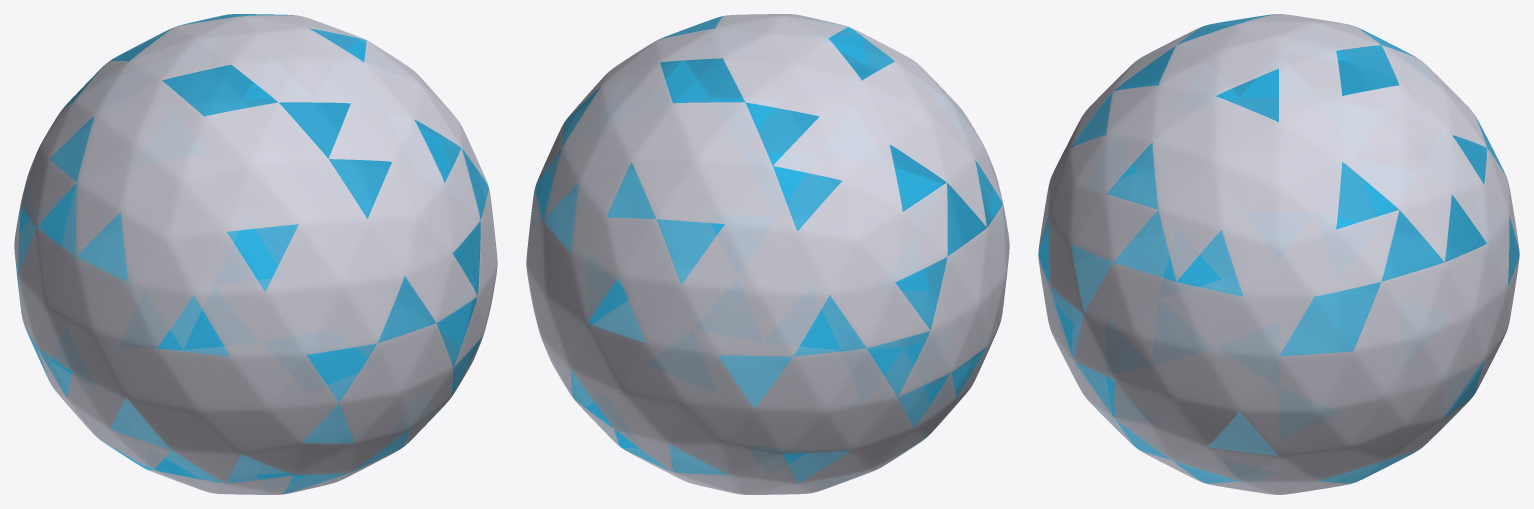
The picture shows the model from 3 angles, left to right: view 1: azimuth 30°, elevation 25°; view 2: azimuth 150°, elevation 25°; view 3: azimuth 270°, elevation 25°; orthographic projection.
Visible parts, largest first — view 1: SoccerBall_Futuristic; view 2: SoccerBall_Futuristic; view 3: SoccerBall_Futuristic.
Part boxes in pixels (x1,y1,x2,y2): SoccerBall_Futuristic: (14, 14, 497, 494); SoccerBall_Futuristic: (526, 14, 1009, 494); SoccerBall_Futuristic: (1038, 14, 1519, 494).
Bounding box in the file's own units: 1.99 × 1.99 × 1.99.
